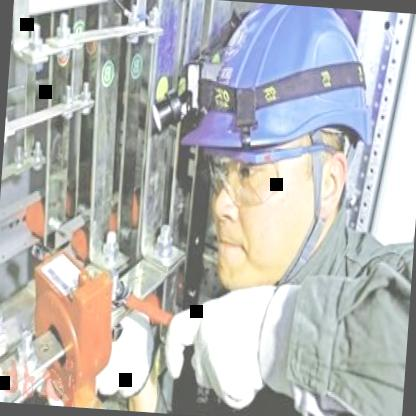helmet: (189, 0, 387, 326)
